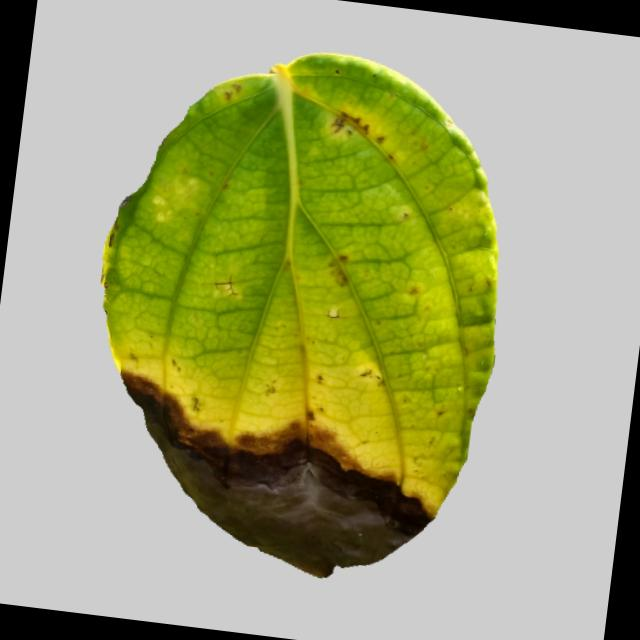leaf-blight: (70, 27, 533, 600)
